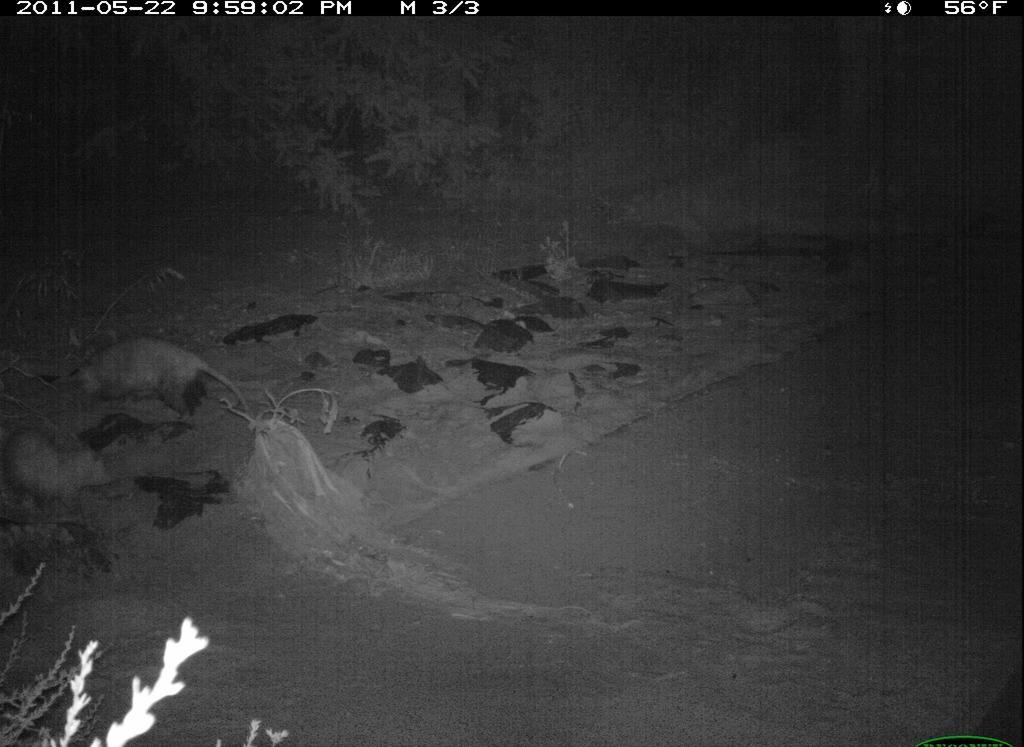opossum: (73, 332, 255, 423)
